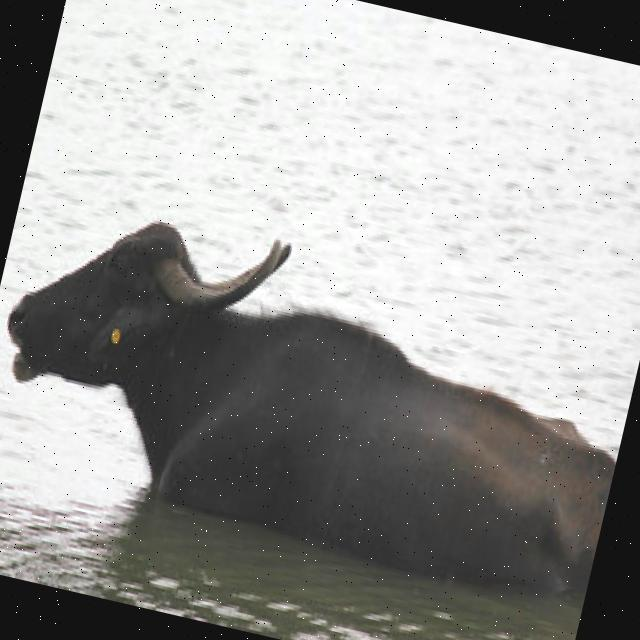Buffalo: (0, 175, 640, 614)
